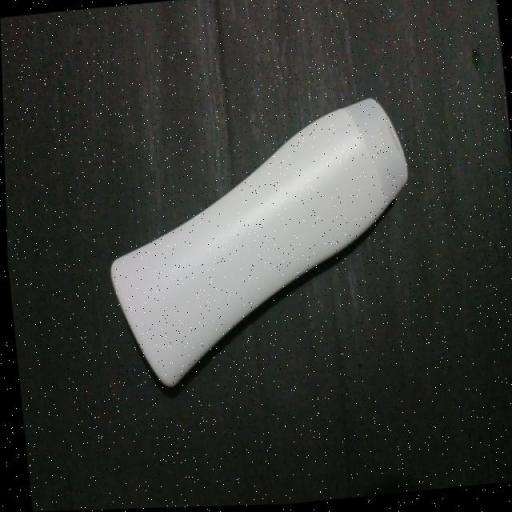plastic: (75, 67, 446, 413)
